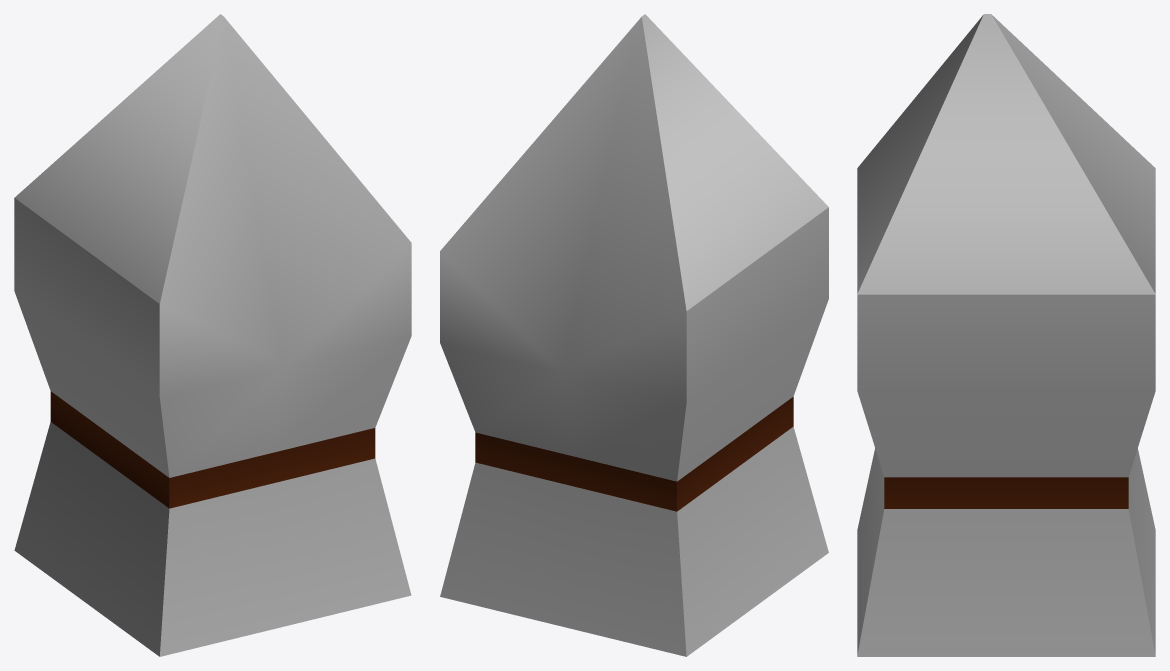
The model's file is 15 one.FBX.
The picture shows the model from 3 angles, left to right: view 1: azimuth 30°, elevation 25°; view 2: azimuth 150°, elevation 25°; view 3: azimuth 270°, elevation 25°; orthographic projection. The views are drawn at different scales.
Visible parts, largest first — view 1: Box001; view 2: Box001; view 3: Box001.
Boxes of the visible parts, <box> form: Box001: <box>14,14,411,656</box>; Box001: <box>440,14,828,656</box>; Box001: <box>857,14,1155,656</box>.
Size of the model in its own units: 7 by 15 by 7.
